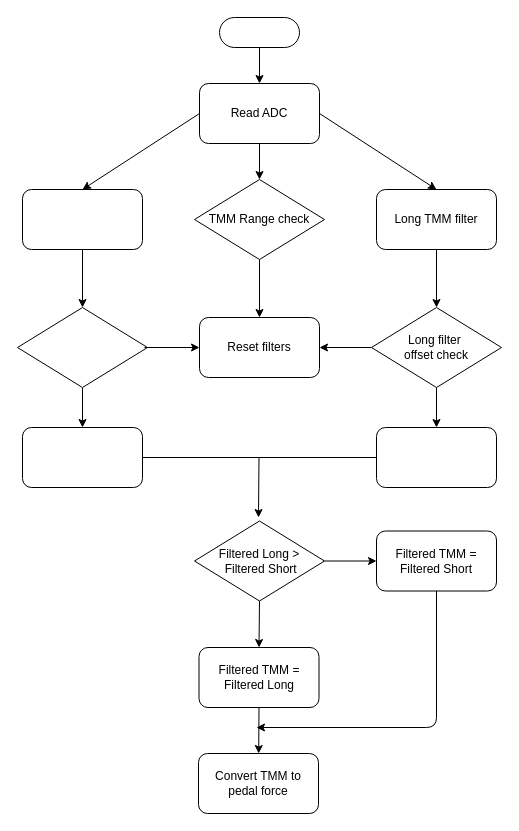
Some shapes in this 519 by 831 pixel diagram are drawn without their labels. The centre of each missing label's shape, as x and y in pixels:
Filtered Long = Long filter output: the point at 436,457
Filtered Short = (2/3) * Short filter output: the point at 82,457
ProcessTMM: the point at 259,32
Short filter offset check: the point at 82,347
Short TMM filter: the point at 82,219
